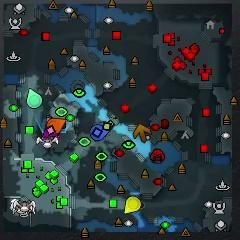p1: (90, 125, 110, 141)
p2: (26, 88, 42, 108)
p3: (43, 129, 57, 138)
p4: (124, 196, 141, 213)
p5: (45, 119, 67, 134)
x5: (133, 124, 151, 143)
